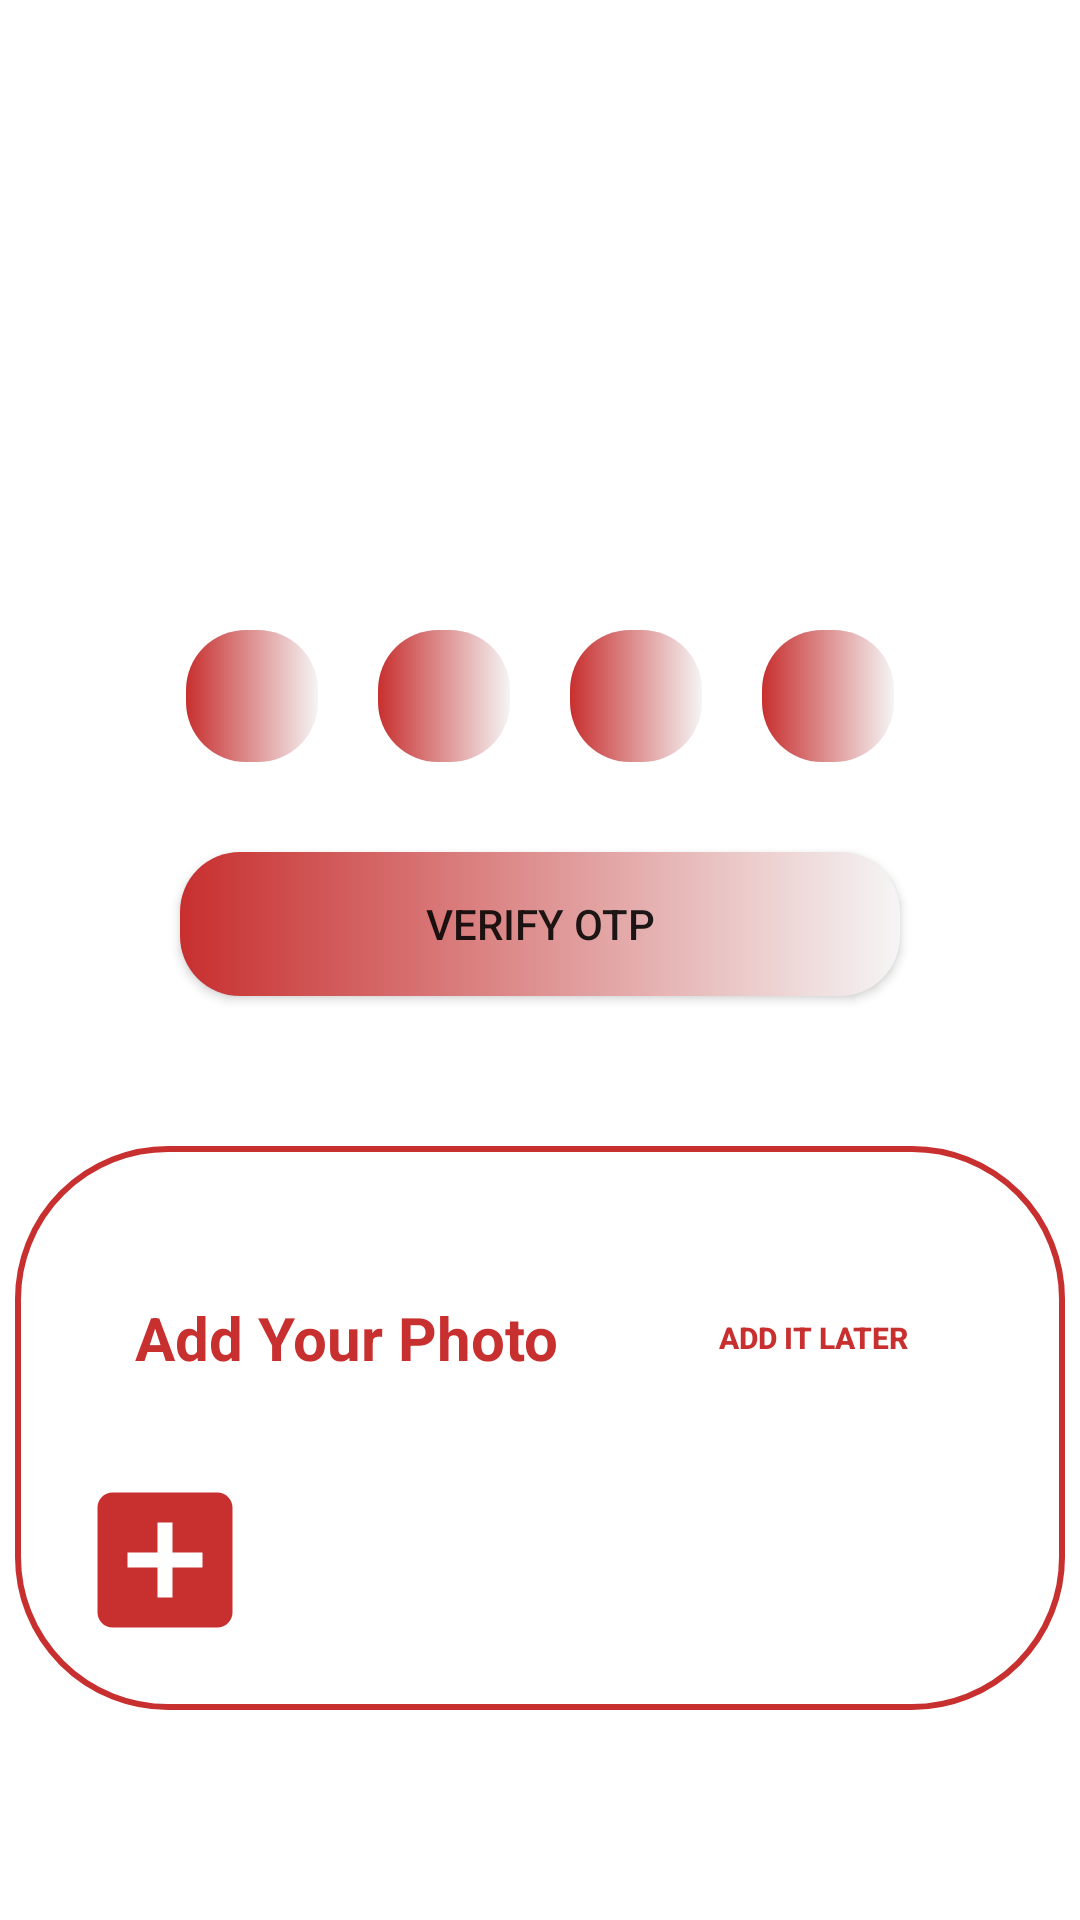

Screen size 1080px×1920px. Icon name, then its center in pixels as (x,y):
add box: (165,1560)
